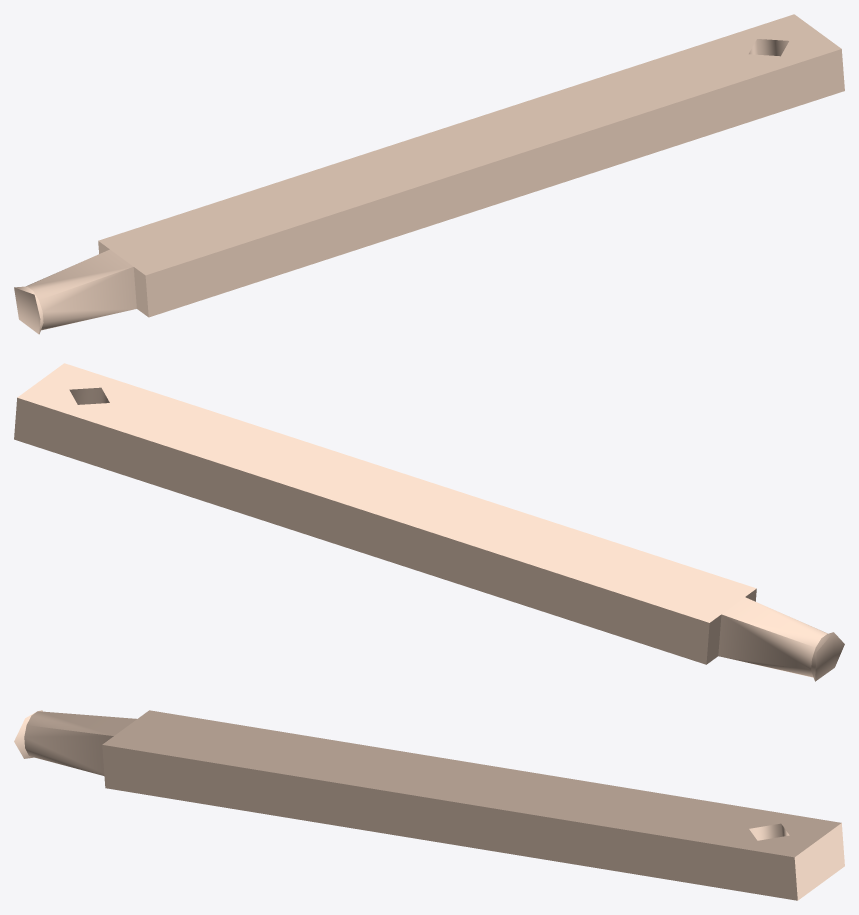
File: Tige poid Gdetente_instance_1.obj
3 renders of one model, top to bottom at view 1: azimuth 30°, elevation 25°; view 2: azimuth 150°, elevation 25°; view 3: azimuth 330°, elevation 25°, orthographic.
Visible parts, largest first — view 1: Face_5, Face_6, Face_9, Face_11, Face_13; view 2: Face_5, Face_7, Face_10, Face_11, Face_13; view 3: Face_6, Face_5, Face_9, Face_4, Face_11, Face_14.
Boxes of the visible parts, x1,y1,x2,y2 form: Face_5: (98,14,841,275); Face_6: (145,49,844,317); Face_9: (39,267,136,329); Face_11: (26,249,133,299); Face_13: (14,287,40,334); Face_5: (17,363,756,622); Face_7: (14,397,709,664); Face_10: (718,614,815,676); Face_11: (721,597,827,647); Face_13: (815,632,844,681); Face_6: (102,745,797,900); Face_5: (102,710,841,857); Face_9: (24,725,113,775); Face_4: (794,823,844,900); Face_11: (27,711,136,735); Face_14: (749,823,789,840).
Size of the model in its own units: 0.0485 by 0.00618 by 0.005.
